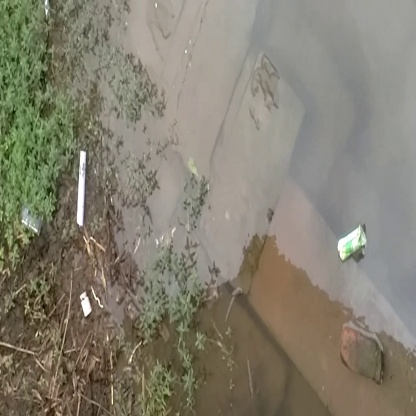milk-box: (331, 215, 378, 270)
